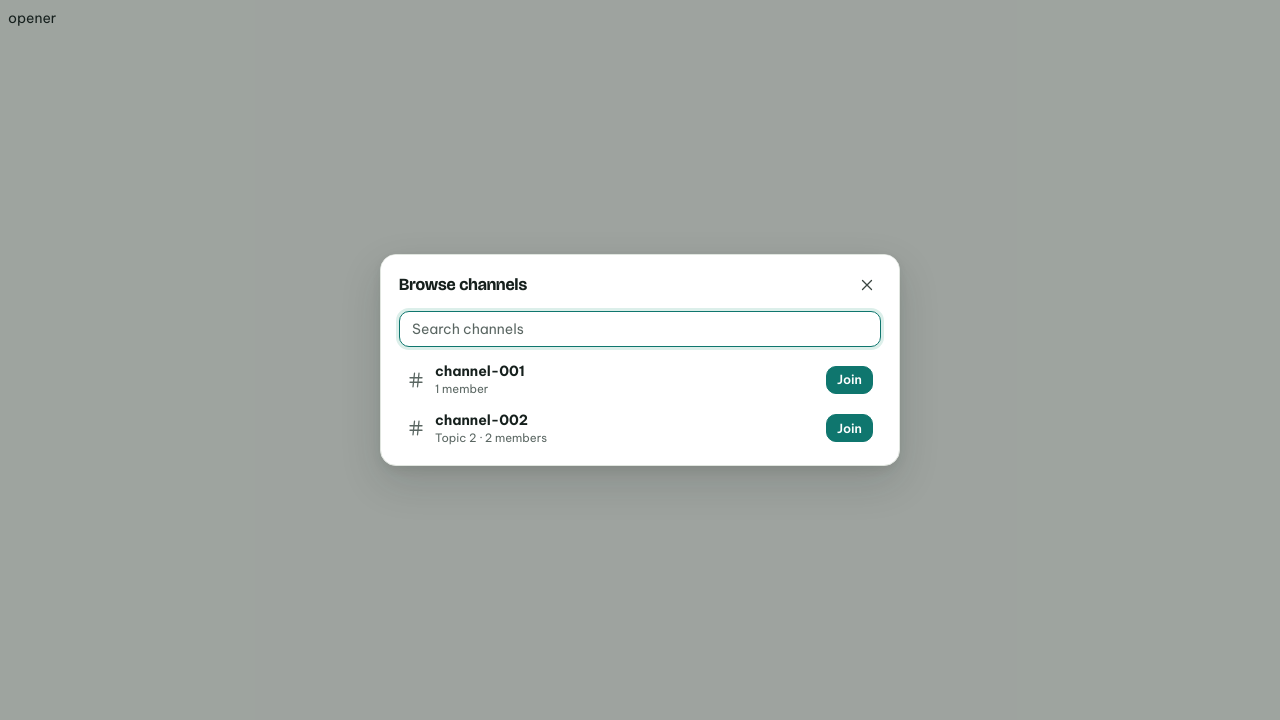
Scenario: BrowseChannelsDialog (TOKI-034 R4 to R15) › Join: buttons are disabled while it runs; then the store, close, open and the toast, in order
Later steps or results of the test are not shown.
Click the button "Join" in the row of "channel-001".
click(849, 380)  # box [826, 366, 873, 394]
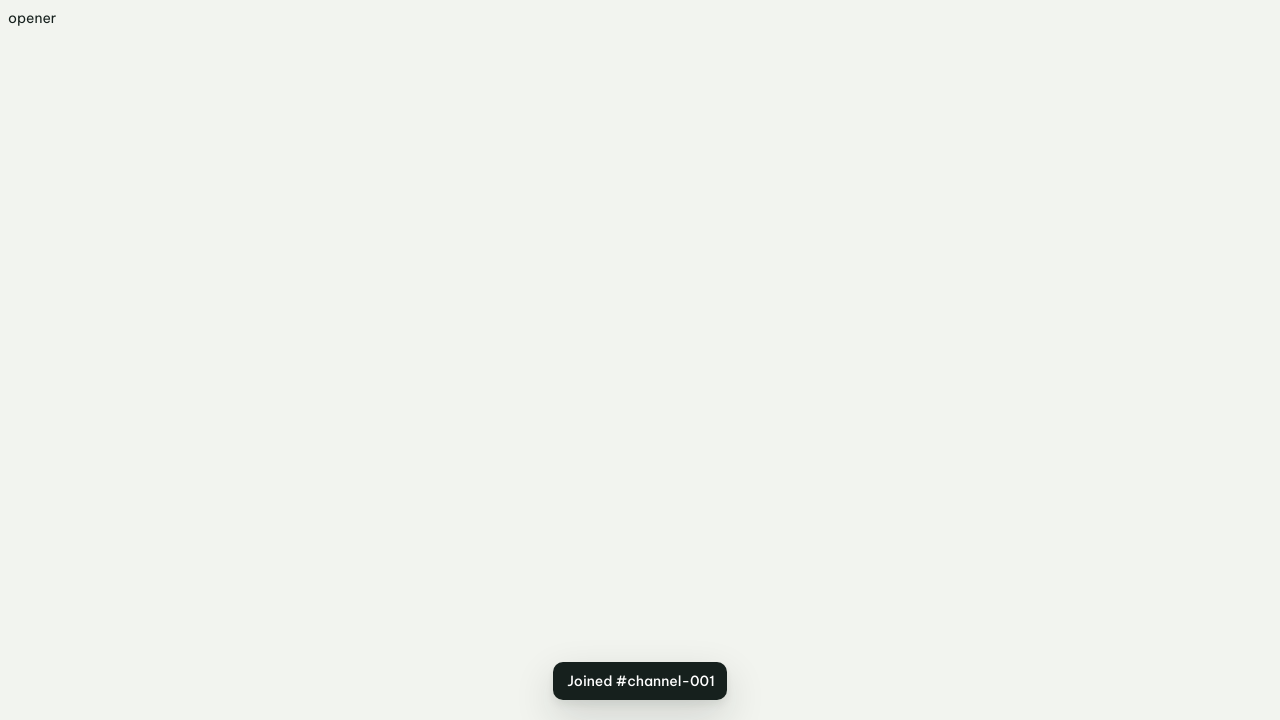
Check: the text "Joined #channel-001" is shown, box [567, 671, 715, 691]
